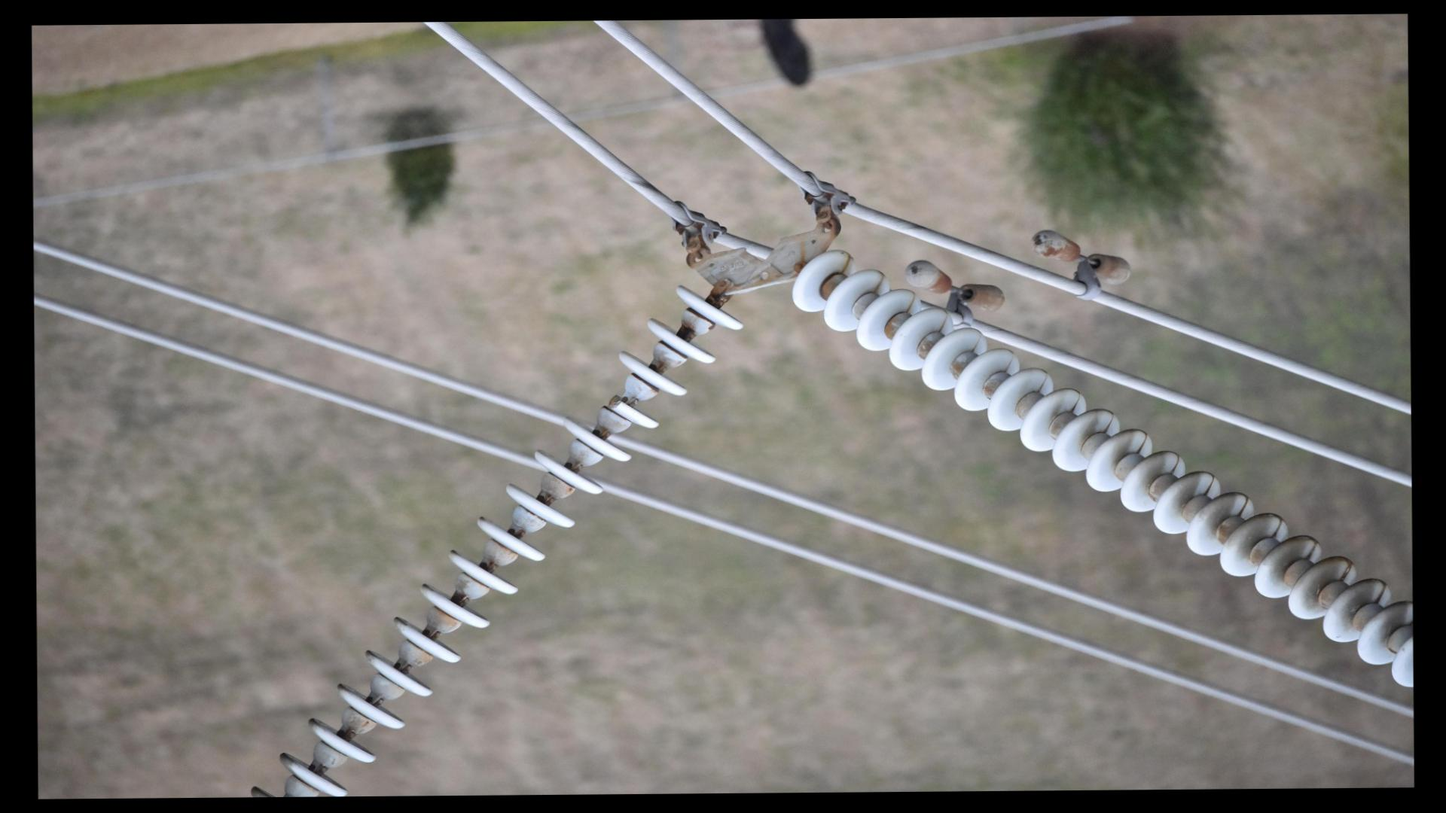damper: (1026, 225, 1135, 306), (901, 256, 1008, 318)
